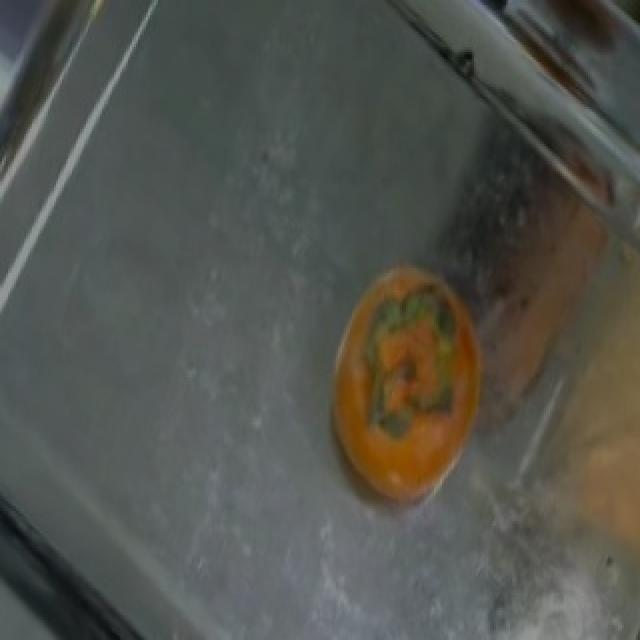Fruit: (314, 243, 506, 526)
